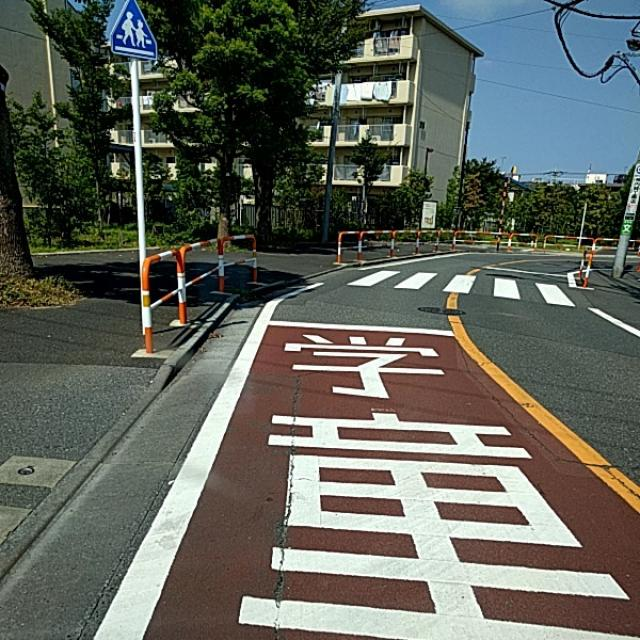pothole: (280, 445, 306, 562)
